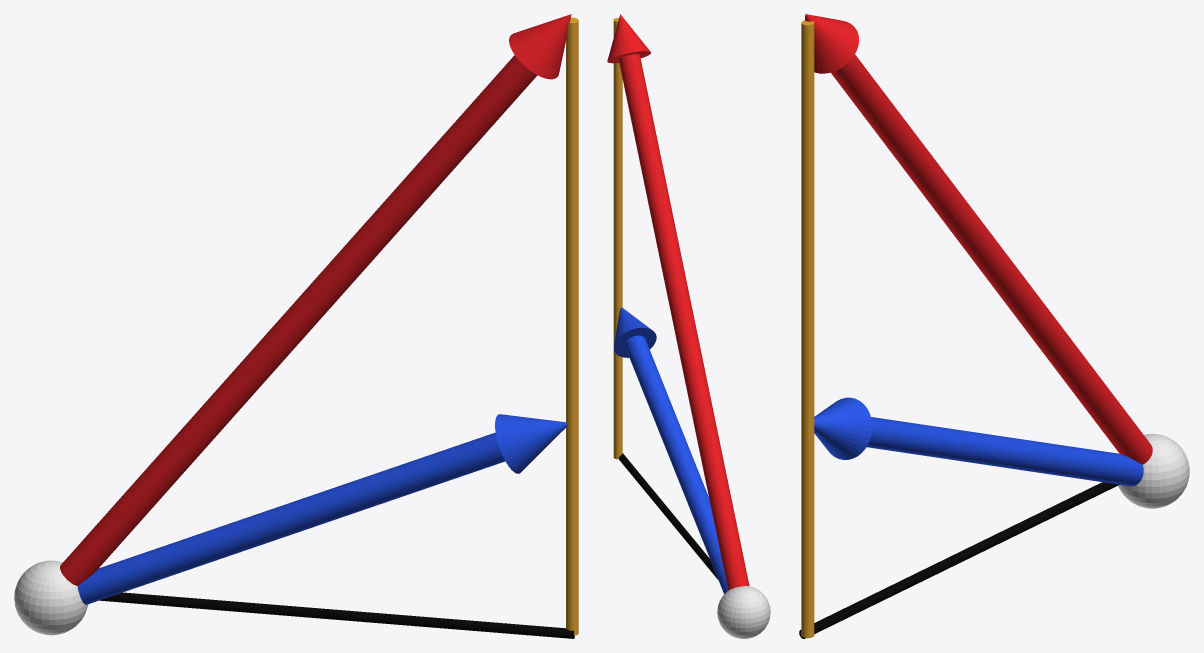
File: chisq.glb
3 renders of one model, left to right at view 1: azimuth 30°, elevation 25°; view 2: azimuth 150°, elevation 25°; view 3: azimuth 270°, elevation 25°, orthographic. The views are drawn at different scales.
Visible parts, largest first — view 1: Cylinder, Cylinder.001, Cylinder.002, Cylinder.003, Sphere, Cone.001, Cone; view 2: Cylinder, Cylinder.001, Cylinder.002, Sphere, Cylinder.003, Cone, Cone.001; view 3: Cylinder, Cylinder.002, Cylinder.001, Cylinder.003, Sphere, Cone.001, Cone.
Part boxes in pixels (box(x1,y1,x2,y2)): Cylinder: box(60, 55, 537, 585); Cylinder.001: box(77, 432, 505, 604); Cylinder.002: box(566, 17, 578, 635); Cylinder.003: box(99, 592, 574, 638); Sphere: box(14, 560, 88, 635); Cone.001: box(495, 414, 567, 473); Cone: box(509, 14, 571, 79); Cylinder: box(618, 54, 749, 590); Cylinder.001: box(624, 335, 728, 594); Cylinder.002: box(613, 18, 622, 459); Sphere: box(717, 586, 770, 638); Cylinder.003: box(619, 453, 718, 579); Cone: box(607, 14, 650, 63); Cone.001: box(614, 307, 656, 357); Cylinder: box(831, 54, 1152, 464); Cylinder.002: box(801, 20, 814, 638); Cylinder.001: box(866, 417, 1143, 486); Cylinder.003: box(799, 482, 1119, 638); Sphere: box(1118, 434, 1189, 508); Cone.001: box(814, 397, 872, 459); Cone: box(805, 14, 859, 73).
Size of what is drawn, in the model's own units: 1.88 by 3.08 by 1.65.
